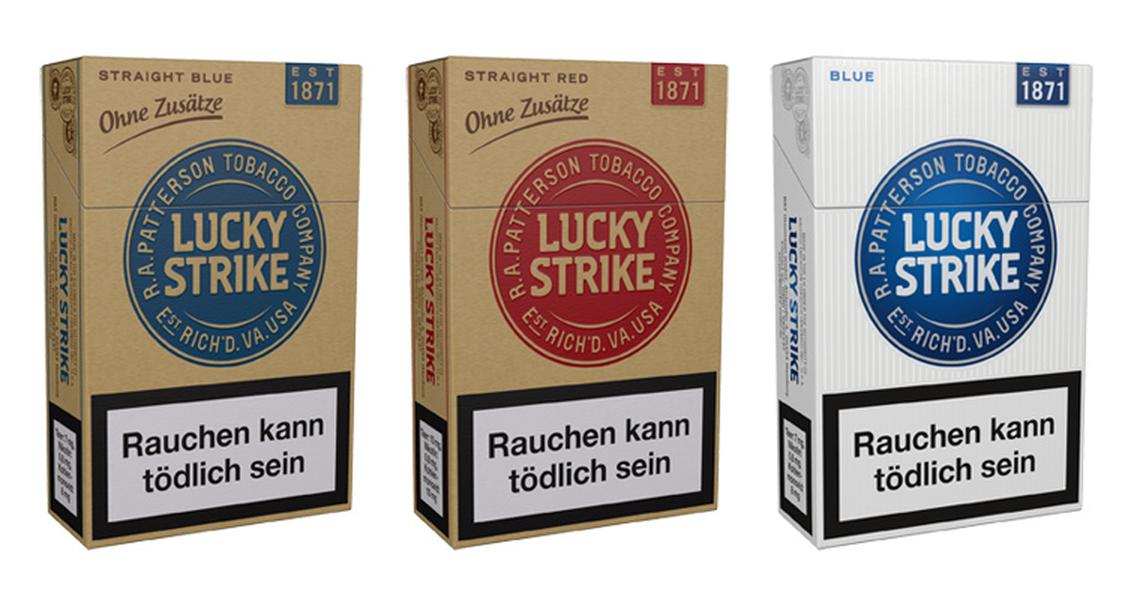lucky_strike_blue: (816, 62, 1087, 512)
